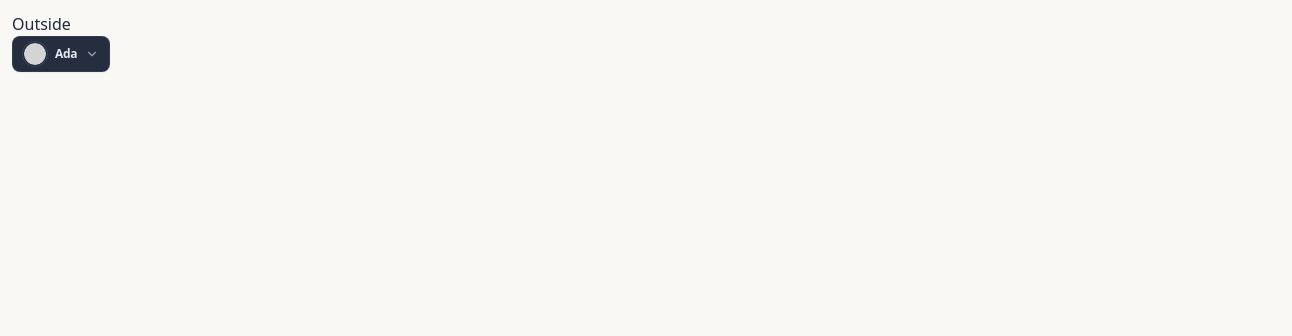
it: UserMenu (Task 1.10) › closes on click-outside (mousedown outside container)
This screenshot has width=1292, height=336.
Click the button with aria-label "Profile Menu" at (61, 54), box [12, 36, 110, 72]
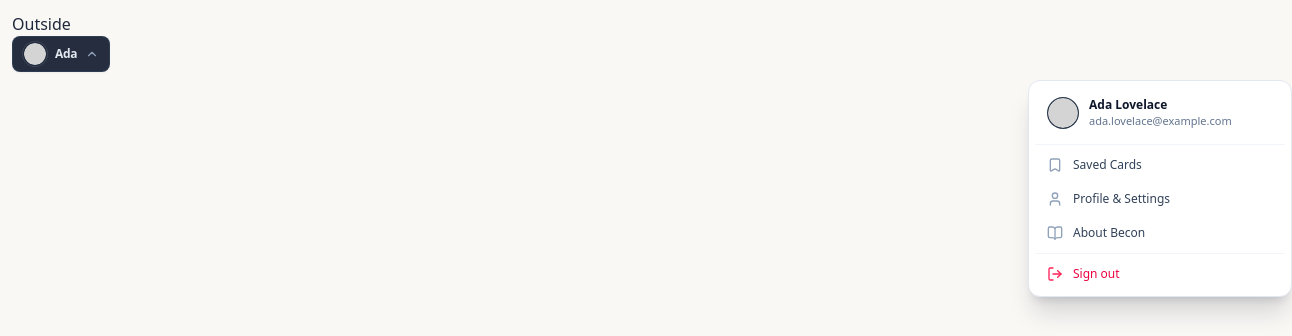
Check: the menu is shown, box [1028, 80, 1291, 296]
Press the mouse on the text with test id "outside-area" at (41, 24), box [12, 13, 71, 35]
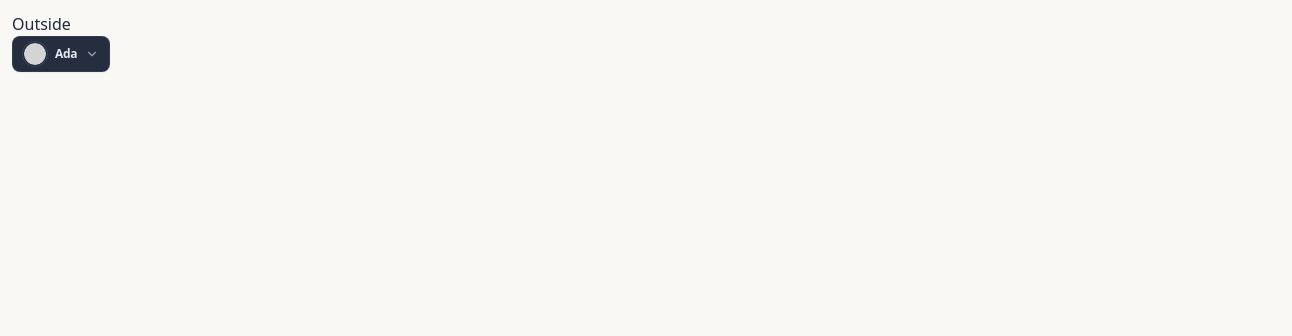
Check: the menu is gone
Check: the button with aria-label "Profile Menu" is collapsed, box [12, 36, 110, 72]
